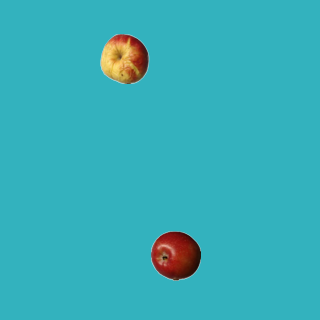Apple Braeburn: (150, 230, 200, 280)
Apple Red Yellow 1: (99, 33, 149, 83)
